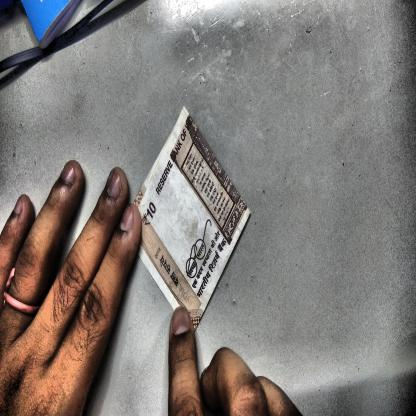Rs10: (139, 197, 160, 234)
